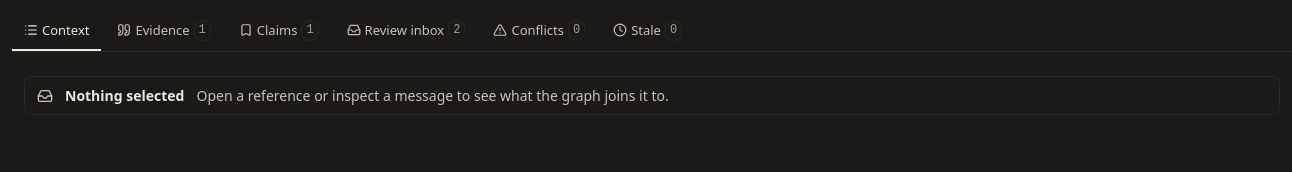
Test: the inspector’s conflicts tab › still says nothing is in dispute when the read succeeded and found none
The width and height of the screenshot is (1292, 172).
Click the tab "Conflicts 0" at {"x": 539, "y": 31}, box [482,12,597,51]
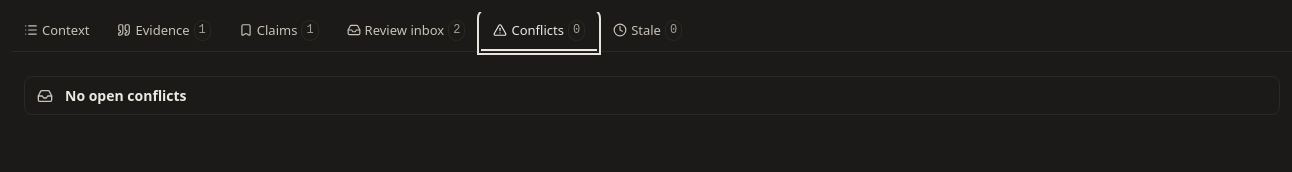
Expected: the text "No open conflicts" is shown, [65,85,187,106]
